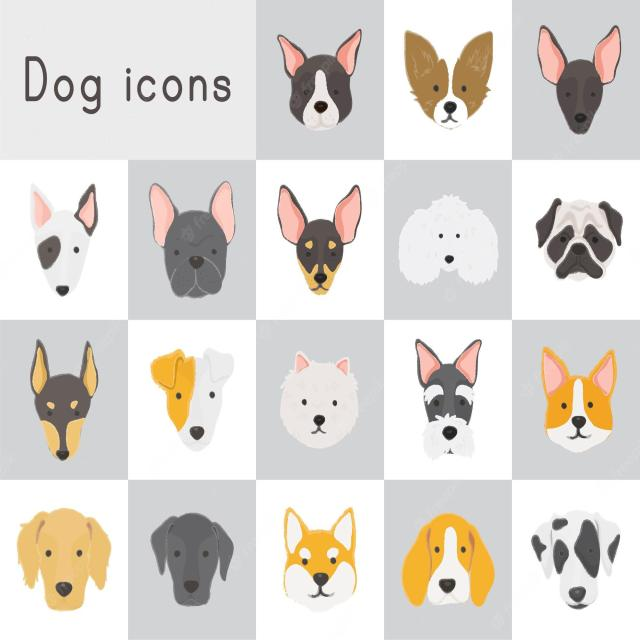dog: (148, 180, 235, 298), (16, 508, 111, 612), (277, 183, 361, 295), (536, 23, 620, 134), (398, 193, 498, 286), (403, 29, 493, 129), (531, 509, 620, 610), (276, 28, 362, 130), (401, 513, 494, 607), (150, 347, 234, 451), (29, 338, 98, 461), (540, 346, 617, 453), (415, 338, 481, 460), (29, 182, 98, 296), (150, 512, 233, 606), (282, 506, 357, 610), (280, 351, 358, 449), (535, 197, 623, 280)
